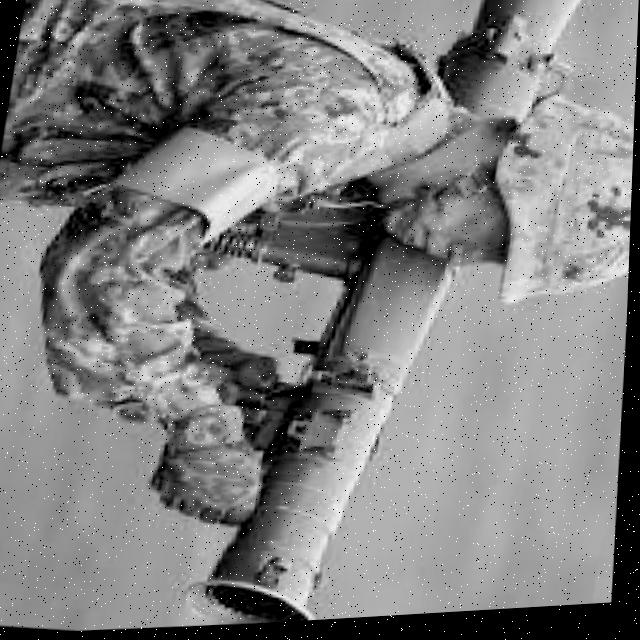rocket: (186, 229, 467, 630)
